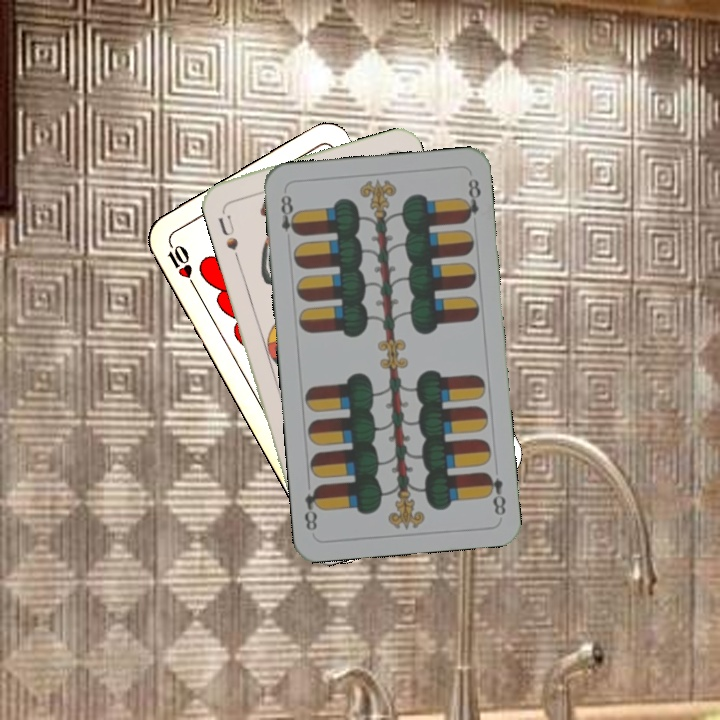E8: (481, 468, 509, 518), (277, 190, 301, 238)
H10: (163, 235, 198, 290)
SU: (214, 205, 242, 263)
